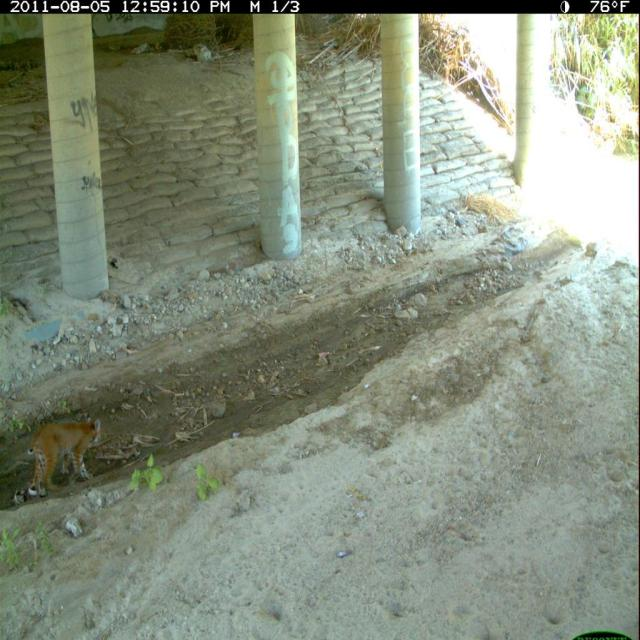bobcat: (27, 413, 105, 507)
